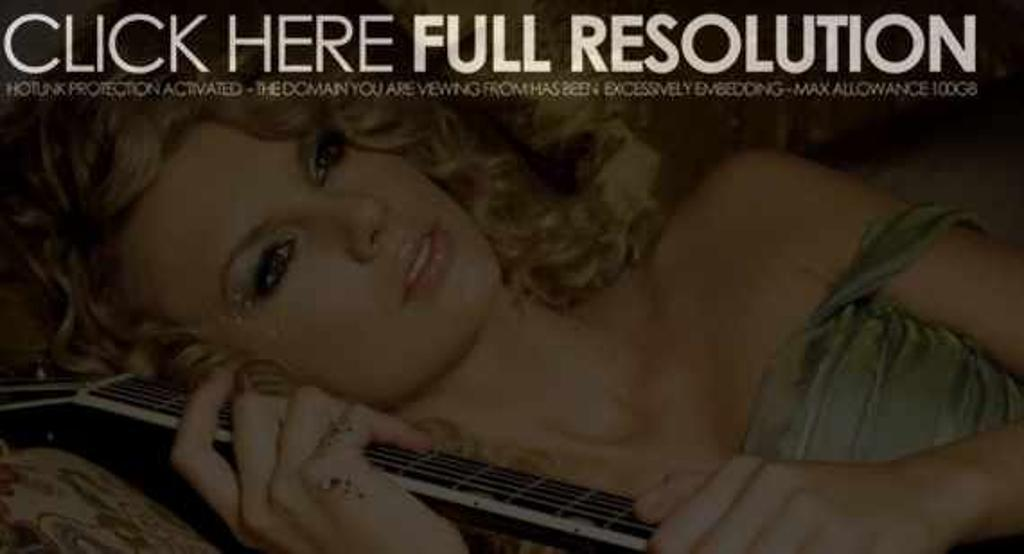face: (119, 117, 505, 395)
